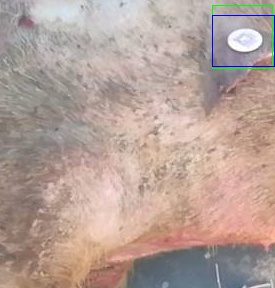text: (212, 5, 272, 68)
